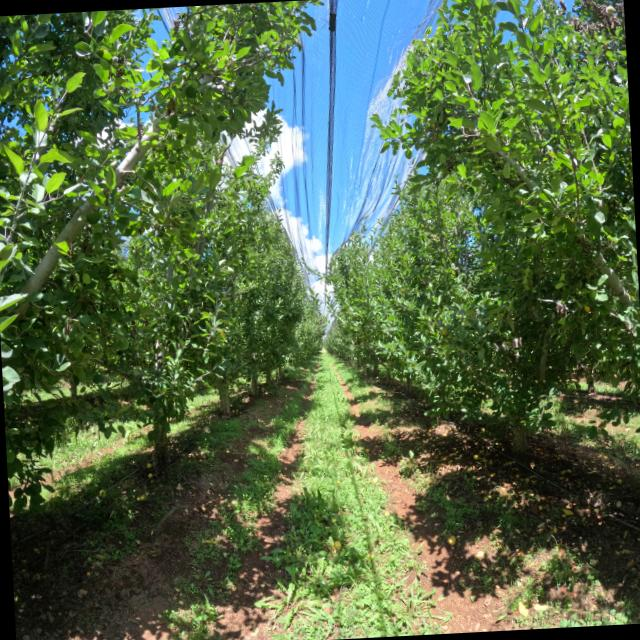-FireBlight-: (552, 0, 625, 40), (555, 301, 571, 319)
